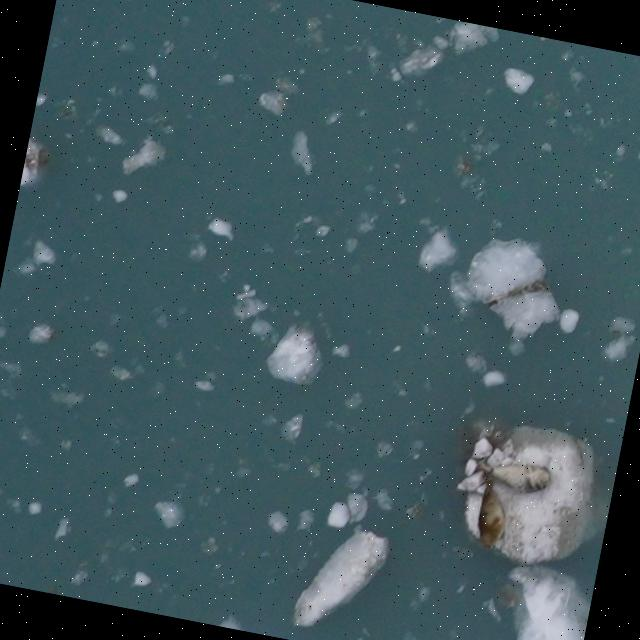seal: (468, 448, 558, 502), (467, 469, 520, 556)
